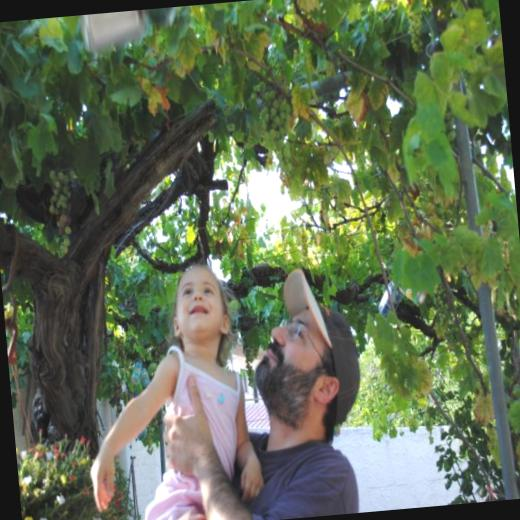Orange: (258, 89, 296, 156), (48, 165, 80, 235), (431, 283, 453, 347), (404, 7, 427, 54), (442, 108, 458, 142), (434, 200, 446, 223)
